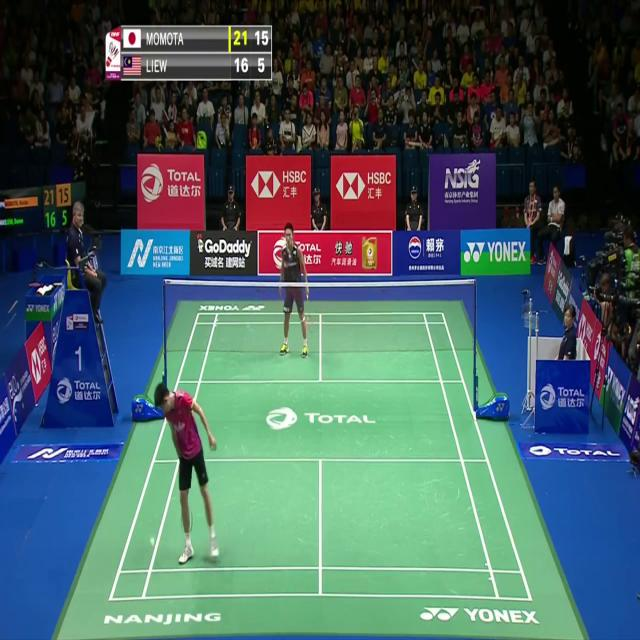Shuttlecock: (149, 537, 156, 549)
